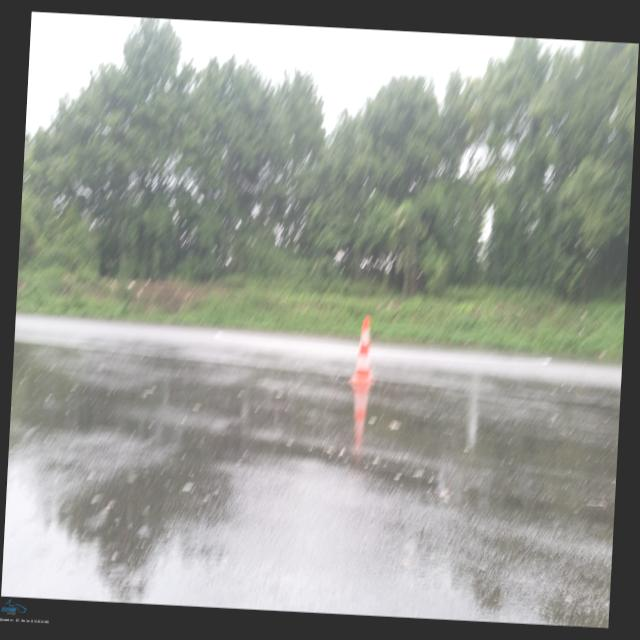large_orange_cone: (348, 314, 380, 386)
